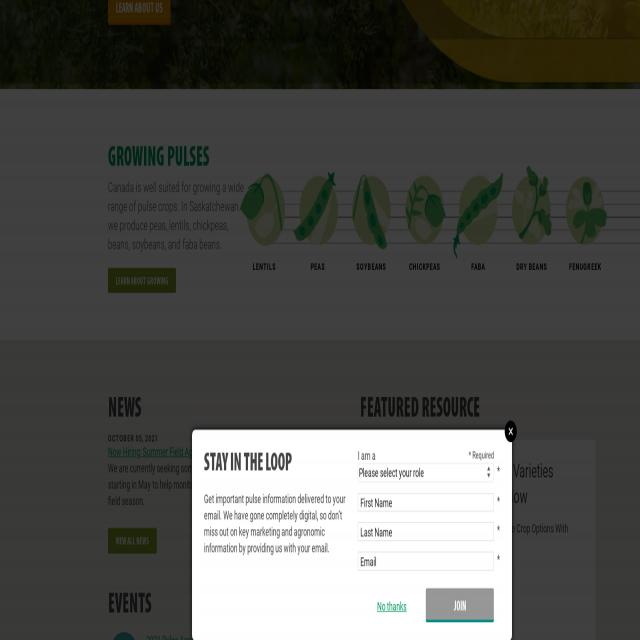button: (426, 588, 494, 622), (505, 421, 517, 442)
field: (358, 462, 494, 482), (358, 493, 494, 511), (358, 522, 494, 540), (358, 552, 494, 570)
